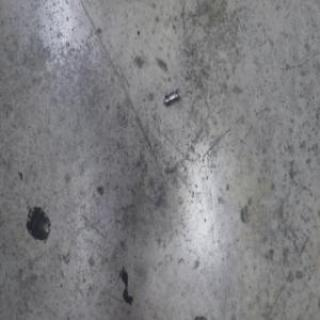Bolttrack_idkeyframe: (164, 84, 181, 104)
